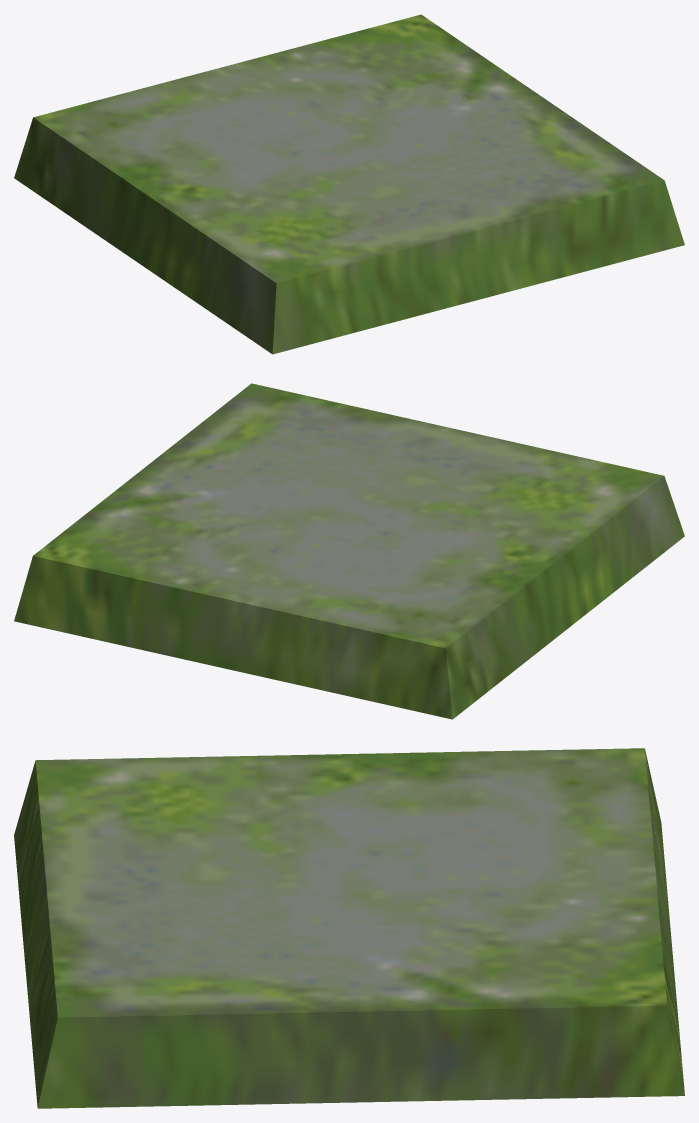
File: 3014_Item_dimian_02.FBX
The picture shows the model from 3 angles, top to bottom: view 1: azimuth 30°, elevation 25°; view 2: azimuth 150°, elevation 25°; view 3: azimuth 270°, elevation 25°; orthographic projection. The views are drawn at different scales.
Visible parts, largest first — view 1: 3014_Item_dimian_02; view 2: 3014_Item_dimian_02; view 3: 3014_Item_dimian_02.
Boxes of the visible parts, bbox=[...] form: 3014_Item_dimian_02: bbox=[14, 14, 684, 354]; 3014_Item_dimian_02: bbox=[14, 383, 684, 719]; 3014_Item_dimian_02: bbox=[14, 748, 684, 1108].
Size of the model in its own units: 112 by 15.78 by 112.
